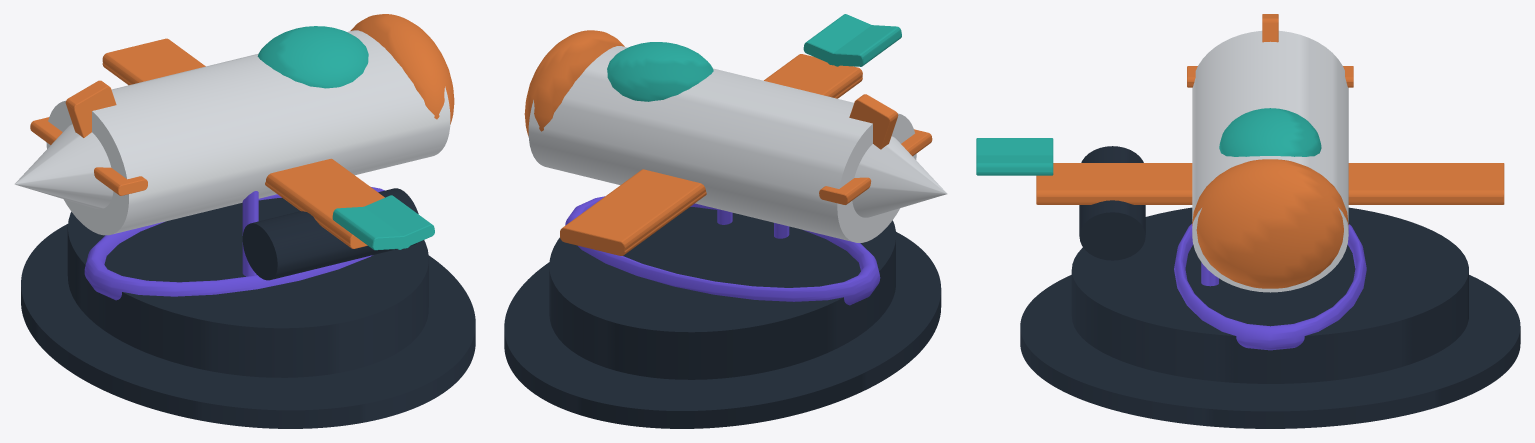
Rendered from 0346_航空航天图鉴_歼-16战斗机.glb.
The picture shows the model from 3 angles, left to right: view 1: azimuth 30°, elevation 25°; view 2: azimuth 150°, elevation 25°; view 3: azimuth 270°, elevation 25°; orthographic projection. The views are drawn at different scales.
Parts seen in each view (by area): view 1: card_0346; view 2: card_0346; view 3: card_0346.
Boxes of the visible parts, bbox=[...] form: card_0346: bbox=[14, 14, 475, 428]; card_0346: bbox=[504, 14, 947, 428]; card_0346: bbox=[976, 14, 1520, 428].
Size of the model in its own units: 1.62 by 1 by 1.91.
